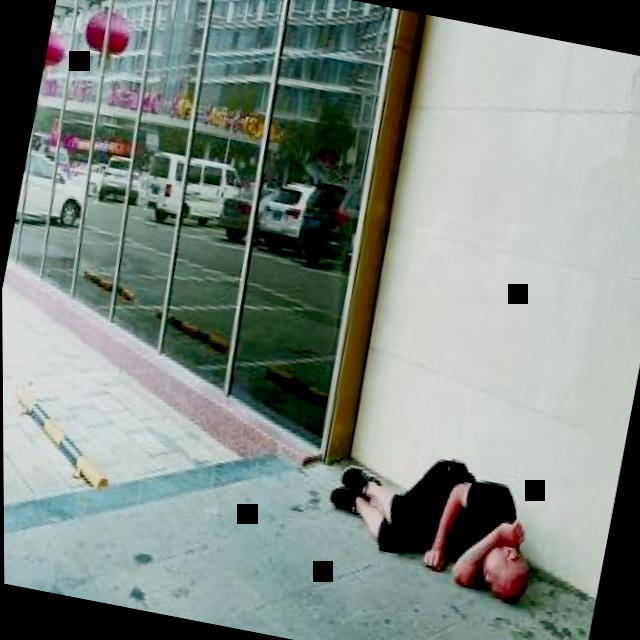Fall-Detected: (307, 421, 563, 612)
